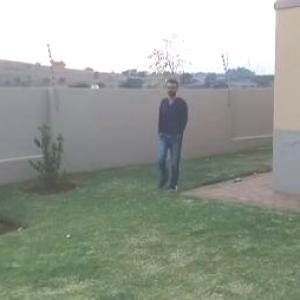follow: (154, 76, 192, 190)
